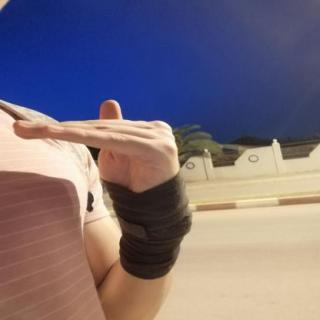KHAA: (2, 91, 198, 226)
